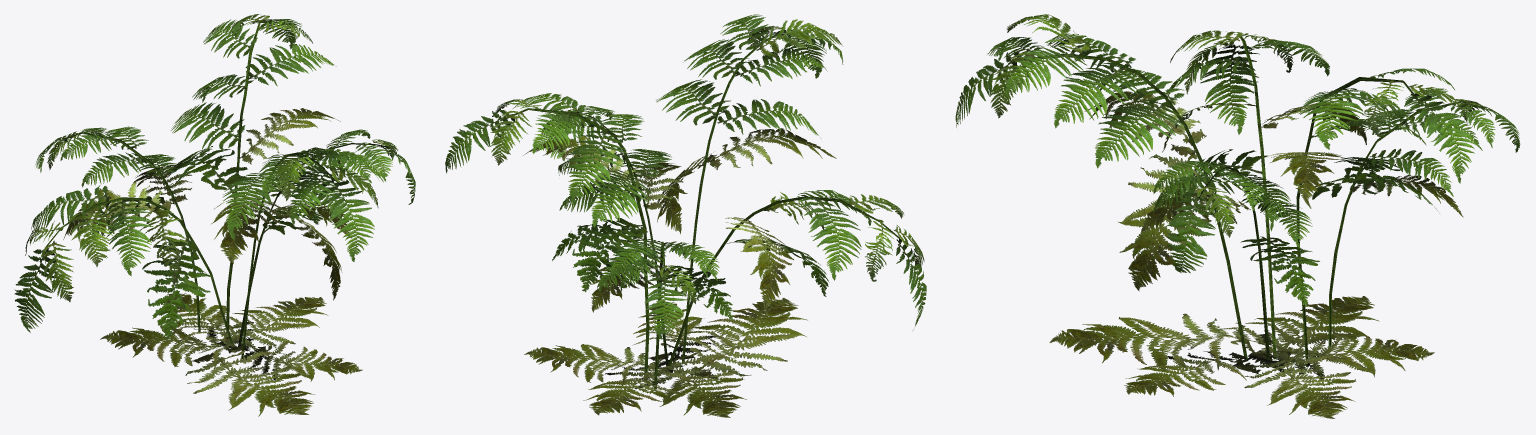
Rendered from PW_Plant_Fern_01_01.glb.
3 views of the same model, side by side, from view 1: azimuth 30°, elevation 25°; view 2: azimuth 150°, elevation 25°; view 3: azimuth 270°, elevation 25° (orthographic). The views are drawn at different scales.
Visible parts, largest first — view 1: PW_Flower_Fern_01_LOD0; view 2: PW_Flower_Fern_01_LOD0; view 3: PW_Flower_Fern_01_LOD0.
Part boxes in pixels (box(x1,y1,x2,y2)): PW_Flower_Fern_01_LOD0: box(14, 14, 415, 416); PW_Flower_Fern_01_LOD0: box(445, 14, 926, 417); PW_Flower_Fern_01_LOD0: box(955, 14, 1520, 418).
Bounding box in the file's own units: 1.34 × 0.9339 × 1.46.
Materials: 1 (1 with a texture image).
